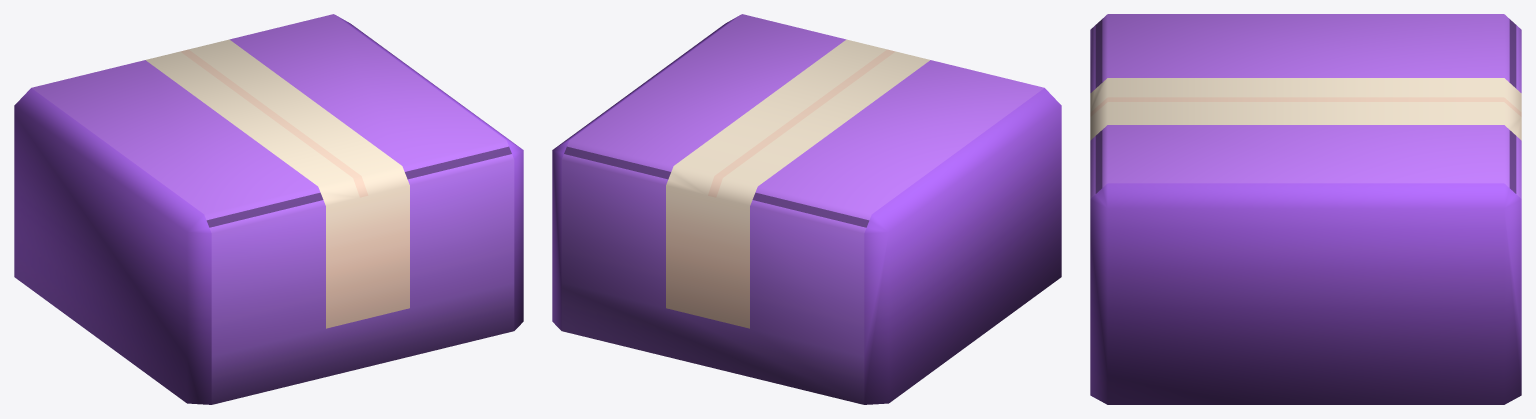
Rendered from package_1.fbx.
3 views of the same model, side by side, from view 1: azimuth 30°, elevation 25°; view 2: azimuth 150°, elevation 25°; view 3: azimuth 270°, elevation 25° (orthographic). The views are drawn at different scales.
Parts seen in each view (by area): view 1: Package_1; view 2: Package_1; view 3: Package_1.
Part boxes in pixels (left/top/right/bottom): Package_1: left=14, top=14, right=523, bottom=404; Package_1: left=552, top=14, right=1061, bottom=404; Package_1: left=1090, top=14, right=1521, bottom=404.
Bounding box in the file's own units: 144 × 75.76 × 140.
